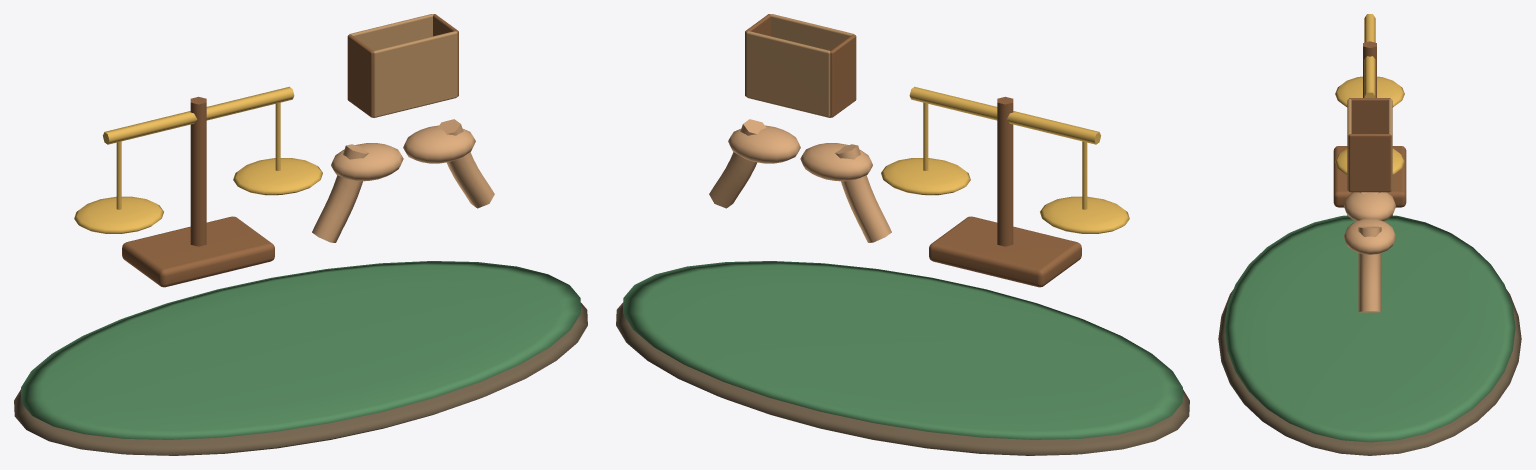
The model's file is complete-second-worth-receiving.glb.
The picture shows the model from 3 angles, left to right: view 1: azimuth 30°, elevation 25°; view 2: azimuth 150°, elevation 25°; view 3: azimuth 270°, elevation 25°; orthographic projection. The views are drawn at different scales.
Parts seen in each view (by area): view 1: complete-second-worth-receiving_surface_01, complete-second-worth-receiving_surface_02, complete-second-worth-receiving_surface_00, complete-second-worth-receiving_surface_03, complete-second-worth-receiving_surface_04, complete-second-worth-receiving_surface_05; view 2: complete-second-worth-receiving_surface_01, complete-second-worth-receiving_surface_02, complete-second-worth-receiving_surface_00, complete-second-worth-receiving_surface_03, complete-second-worth-receiving_surface_04, complete-second-worth-receiving_surface_05; view 3: complete-second-worth-receiving_surface_01, complete-second-worth-receiving_surface_02, complete-second-worth-receiving_surface_00, complete-second-worth-receiving_surface_04, complete-second-worth-receiving_surface_03, complete-second-worth-receiving_surface_05.
Part boxes in pixels (<box>): complete-second-worth-receiving_surface_01: <box>21,261,580,439</box>; complete-second-worth-receiving_surface_02: <box>122,14,458,287</box>; complete-second-worth-receiving_surface_00: <box>14,303,587,455</box>; complete-second-worth-receiving_surface_03: <box>74,86,322,233</box>; complete-second-worth-receiving_surface_04: <box>312,119,494,242</box>; complete-second-worth-receiving_surface_05: <box>349,14,457,117</box>; complete-second-worth-receiving_surface_01: <box>623,261,1182,439</box>; complete-second-worth-receiving_surface_02: <box>745,14,1081,287</box>; complete-second-worth-receiving_surface_00: <box>616,303,1189,455</box>; complete-second-worth-receiving_surface_03: <box>881,86,1129,233</box>; complete-second-worth-receiving_surface_04: <box>709,119,891,242</box>; complete-second-worth-receiving_surface_05: <box>746,14,854,117</box>; complete-second-worth-receiving_surface_01: <box>1224,215,1515,442</box>; complete-second-worth-receiving_surface_02: <box>1333,41,1406,207</box>; complete-second-worth-receiving_surface_00: <box>1218,289,1521,455</box>; complete-second-worth-receiving_surface_04: <box>1344,192,1395,312</box>; complete-second-worth-receiving_surface_03: <box>1335,14,1404,174</box>; complete-second-worth-receiving_surface_05: <box>1347,99,1392,191</box>.
Bounding box in the file's own units: 4.56 × 2.55 × 2.5.
